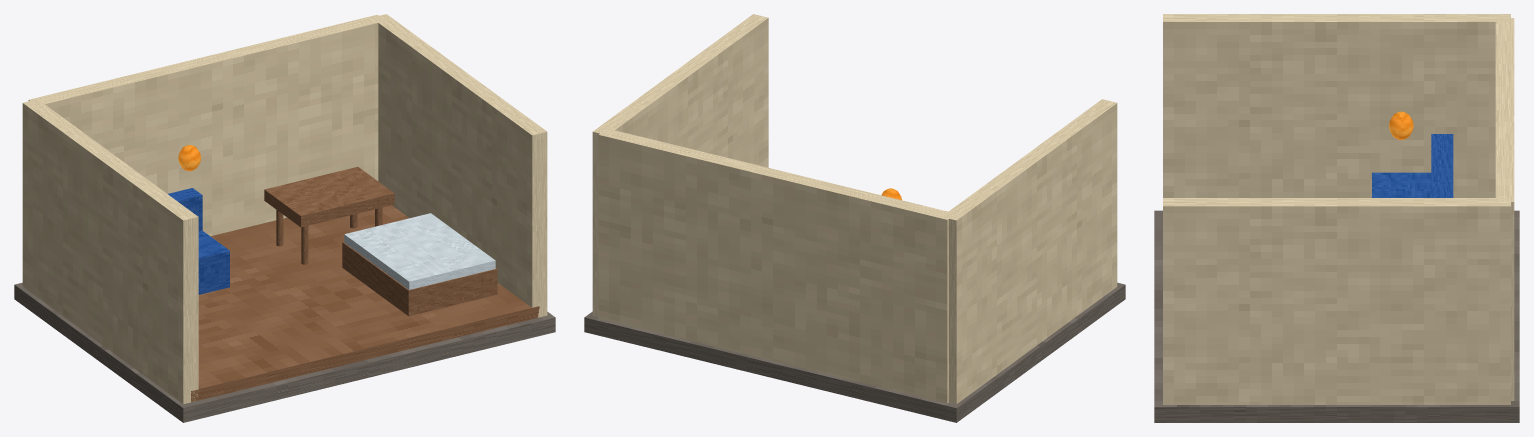
The model's file is cottage-section.glb.
3 views of the same model, side by side, from view 1: azimuth 30°, elevation 25°; view 2: azimuth 150°, elevation 25°; view 3: azimuth 270°, elevation 25° (orthographic). The views are drawn at different scales.
Parts seen in each view (by area): view 1: side wall (×2), rear wall, floor slab, foundation, bed linen, tabletop, bed frame, sofa base, sofa back; view 2: rear wall, side wall (×2), foundation; view 3: side wall (×2), foundation, rear wall, sofa base, sofa back, interior lamp.
Part boxes in pixels (x1,y1,x2,y2): side wall (×2): (22,14,547,404); rear wall: (28,14,379,236); floor slab: (191,205,539,402); foundation: (14,282,555,422); bed linen: (344,213,495,289); tabletop: (264,166,394,227); bed frame: (342,242,497,316); sofa base: (198,231,229,294); sofa back: (168,188,202,231); rear wall: (598,128,949,403); side wall (×2): (592,14,1117,404); foundation: (584,282,1125,422); side wall (×2): (1163,14,1510,404); foundation: (1154,210,1519,422); rear wall: (1495,18,1514,400); sofa base: (1372,172,1431,197); sofa back: (1431,134,1453,197); interior lamp: (1389,111,1413,139).
Size of the model in its own units: 3.18 by 1.62 by 2.5.
6 materials, 6 textured.
